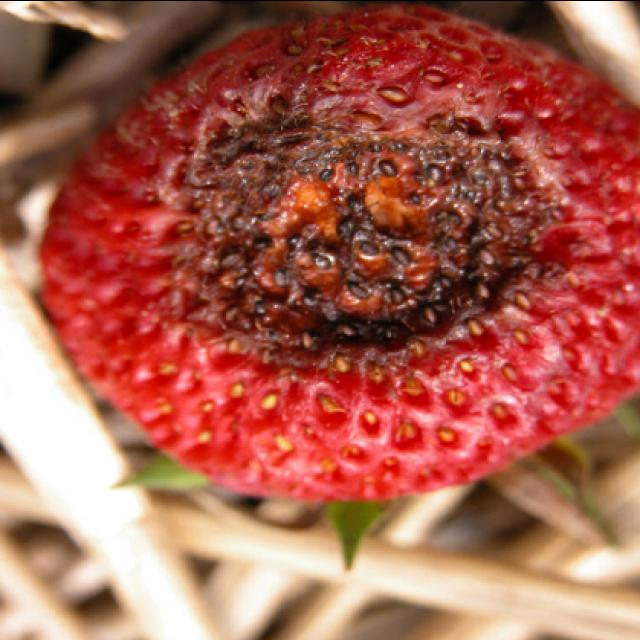Anthracnose Fruit Rot: (217, 112, 497, 346)
